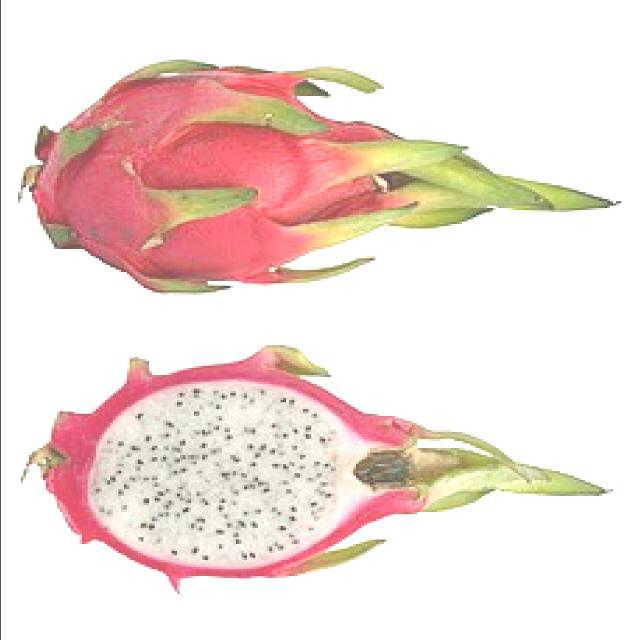trang: (16, 57, 626, 295), (15, 343, 617, 582)
